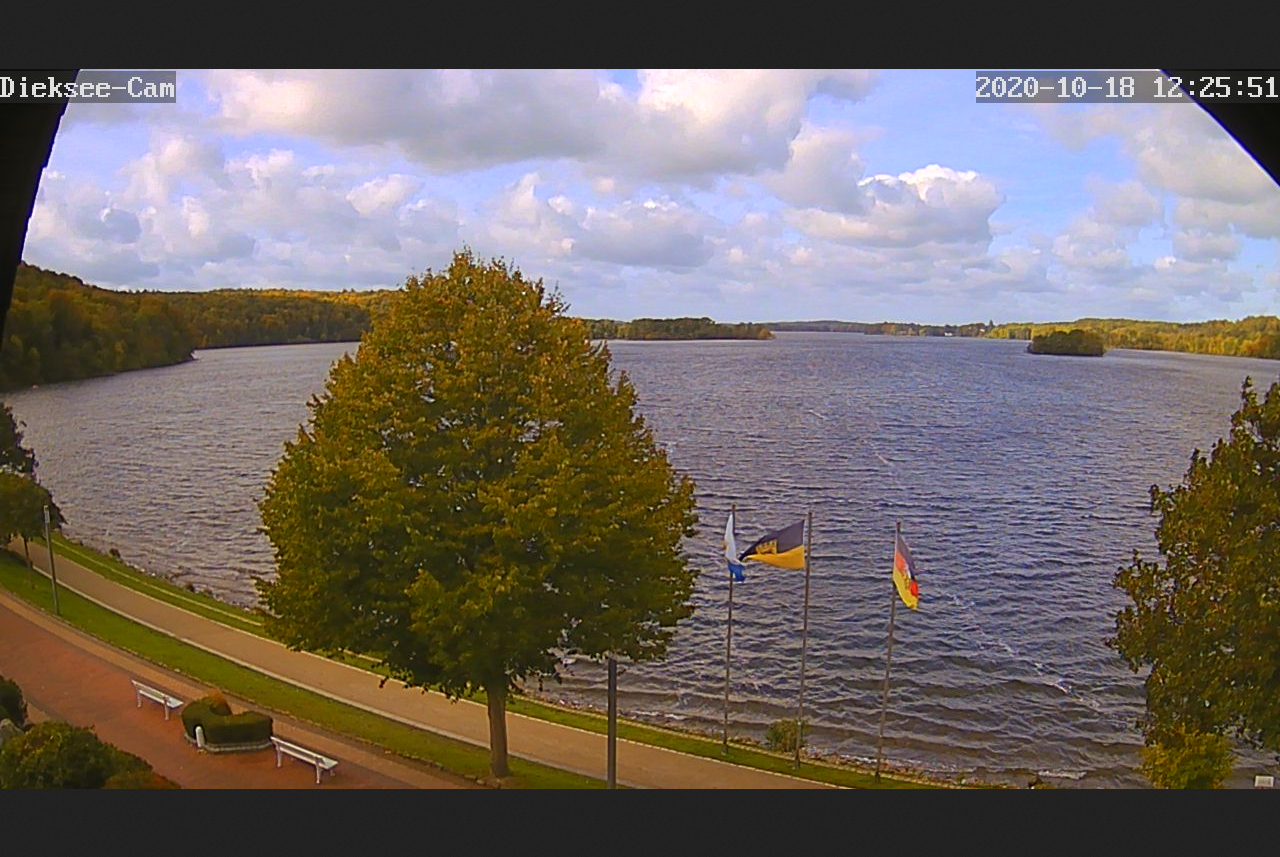maybe: (890, 532, 921, 611)
no: (721, 514, 745, 580)
yes: (739, 526, 809, 573)
